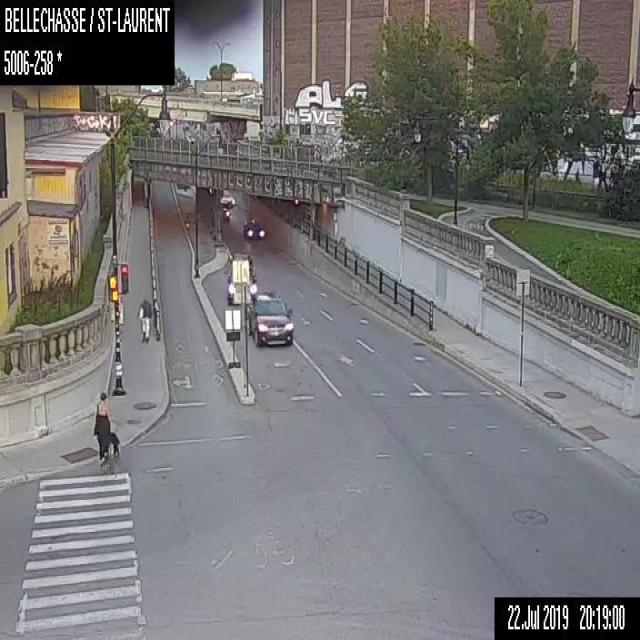pedestrian: (92, 391, 119, 464), (137, 297, 152, 342)
vehicle: (246, 291, 292, 344), (226, 266, 257, 305), (243, 219, 266, 239), (230, 252, 253, 271), (219, 189, 235, 206)
